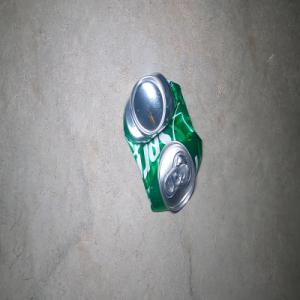SodaCan: (123, 71, 202, 212)
